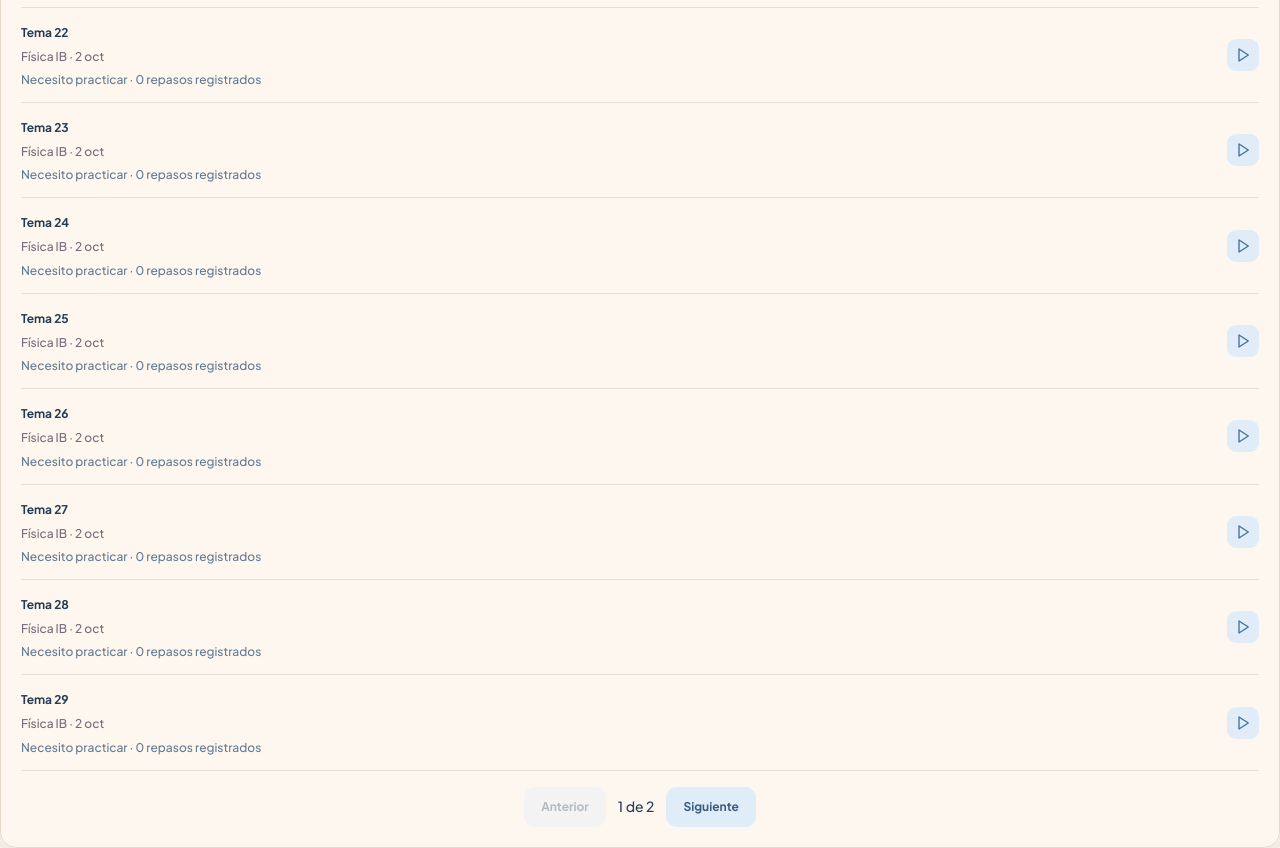
Scenario: permite consultar los repasos posteriores al resultado 30 conservando el filtro
The width and height of the screenshot is (1280, 848).
(page scrolled)
Check: the text "Tema 30" is not shown
Click the button "Siguiente": [711, 807] box x1=666 y1=787 x2=756 y2=827
(page scrolled)
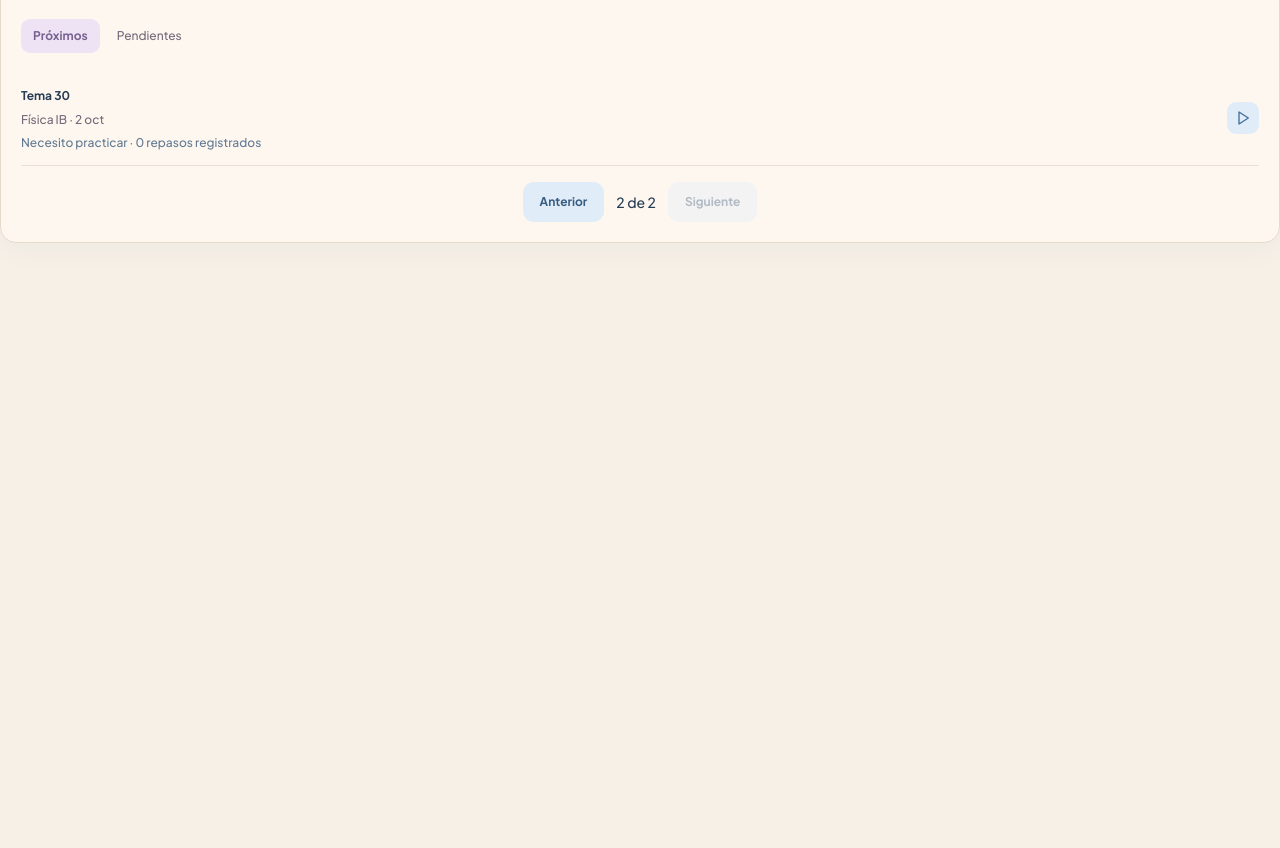
Check: the text "Tema 30" is shown, box x1=21 y1=88 x2=70 y2=103
Click the button "Pendientes": [149, 36] box x1=105 y1=19 x2=194 y2=53
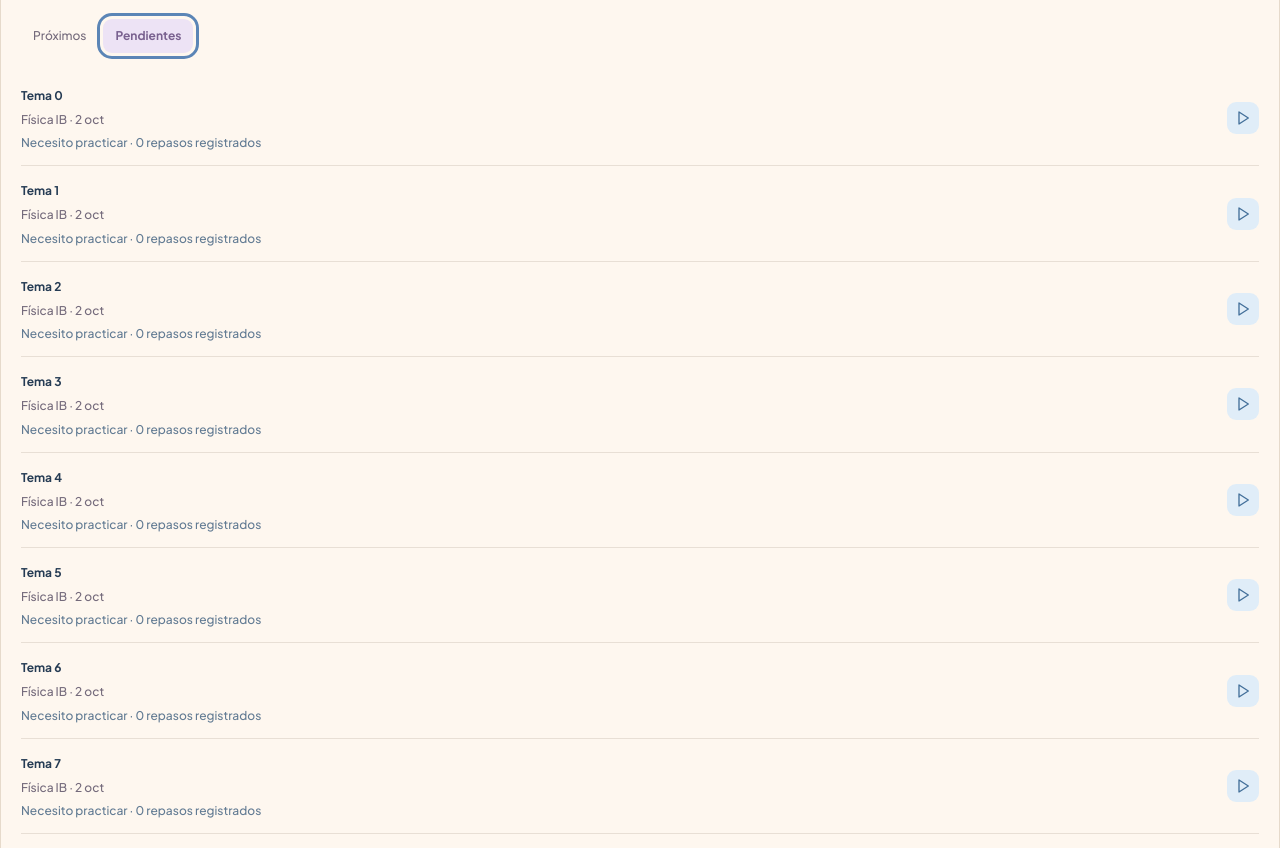
Check: the text "Tema 0" is shown, box x1=21 y1=88 x2=63 y2=103
